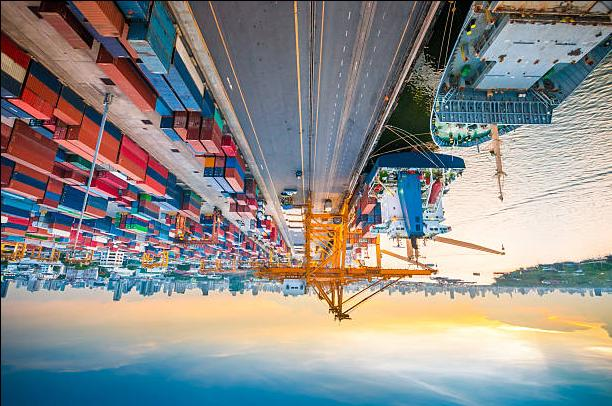Non_Gorille: (0, 0, 543, 389)
